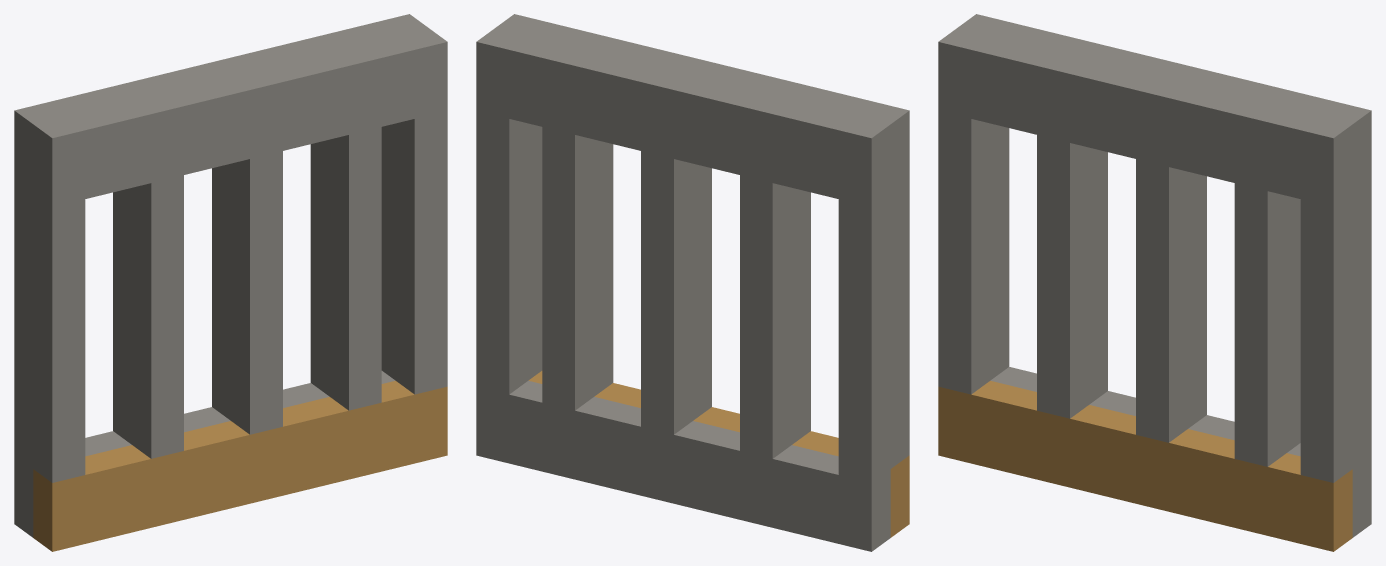
The model's file is jaula_pajaro_cobre_01.glb.
The picture shows the model from 3 angles, left to right: view 1: azimuth 30°, elevation 25°; view 2: azimuth 150°, elevation 25°; view 3: azimuth 330°, elevation 25°; orthographic projection.
Parts seen in each view (by area): view 1: jaula_pajaro_cobre; view 2: jaula_pajaro_cobre; view 3: jaula_pajaro_cobre.
Part boxes in pixels (x1=…): jaula_pajaro_cobre: x1=14, y1=14, x2=447, y2=551; jaula_pajaro_cobre: x1=476, y1=14, x2=909, y2=551; jaula_pajaro_cobre: x1=938, y1=14, x2=1371, y2=551.
Bounding box in the file's own units: 0.9231 × 0.9231 × 0.1538.
